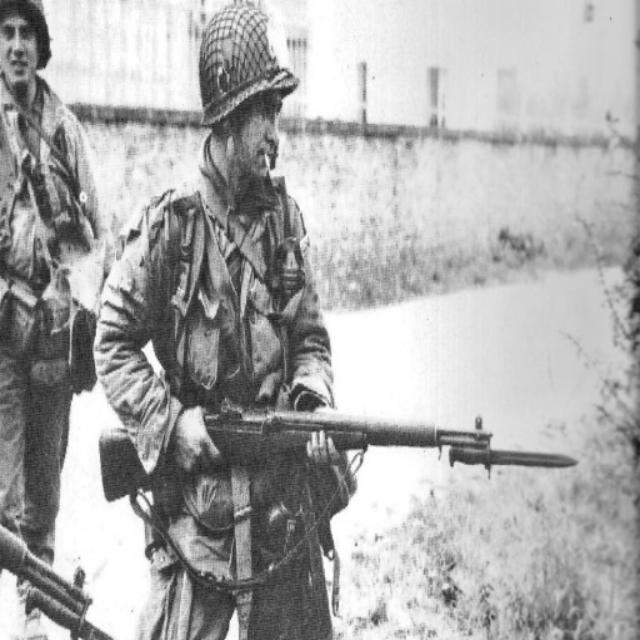other: (110, 8, 322, 634), (0, 0, 96, 532)
